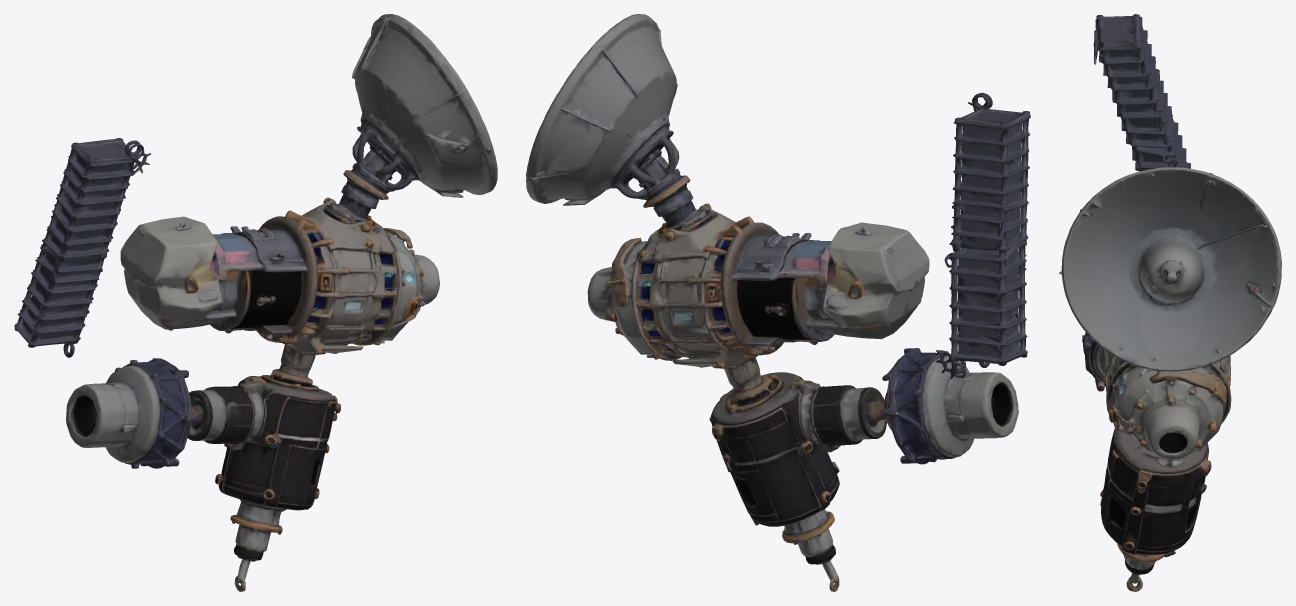
The model's file is spacestation2.glb.
3 renders of one model, left to right at view 1: azimuth 30°, elevation 25°; view 2: azimuth 150°, elevation 25°; view 3: azimuth 270°, elevation 25°, orthographic. The views are drawn at different scales.
Visible parts, largest first — view 1: tripo_node_616c6f8d-51b3-4e7b-a2be-95e5e7ea2320; view 2: tripo_node_616c6f8d-51b3-4e7b-a2be-95e5e7ea2320; view 3: tripo_node_616c6f8d-51b3-4e7b-a2be-95e5e7ea2320.
Boxes of the visible parts, x1,y1,x2,y2 form: tripo_node_616c6f8d-51b3-4e7b-a2be-95e5e7ea2320: (14,14,497,591); tripo_node_616c6f8d-51b3-4e7b-a2be-95e5e7ea2320: (526,14,1030,591); tripo_node_616c6f8d-51b3-4e7b-a2be-95e5e7ea2320: (1059,14,1281,591).
Size of the model in its own units: 0.9101 by 0.9995 by 0.3906.
Materials: 1 (1 with a texture image).
